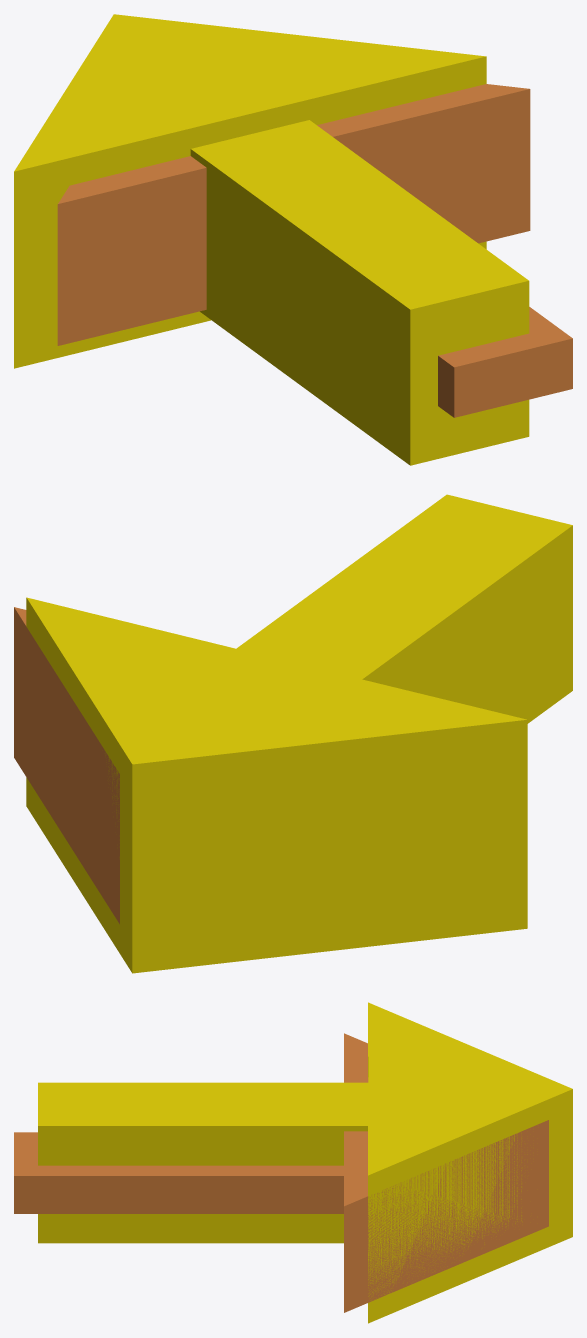
Rendered from UpArrow1.fbx.
3 views of the same model, one above another, from view 1: azimuth 30°, elevation 25°; view 2: azimuth 150°, elevation 25°; view 3: azimuth 270°, elevation 25° (orthographic). The views are drawn at different scales.
Visible parts, largest first — view 1: Cube.008; view 2: Cube.008; view 3: Cube.008.
Part boxes in pixels (x1,y1,x2,y2): Cube.008: [14, 14, 572, 465]; Cube.008: [14, 494, 572, 973]; Cube.008: [14, 1002, 572, 1323].
Bounding box in the file's own units: 147 × 55.37 × 189.
